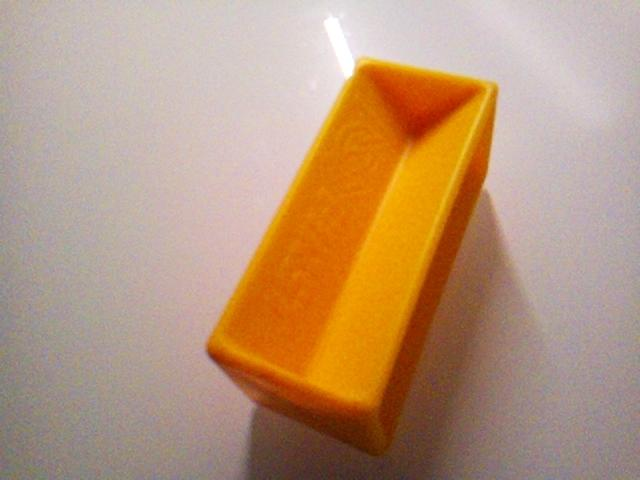yellow: (205, 55, 500, 457)
